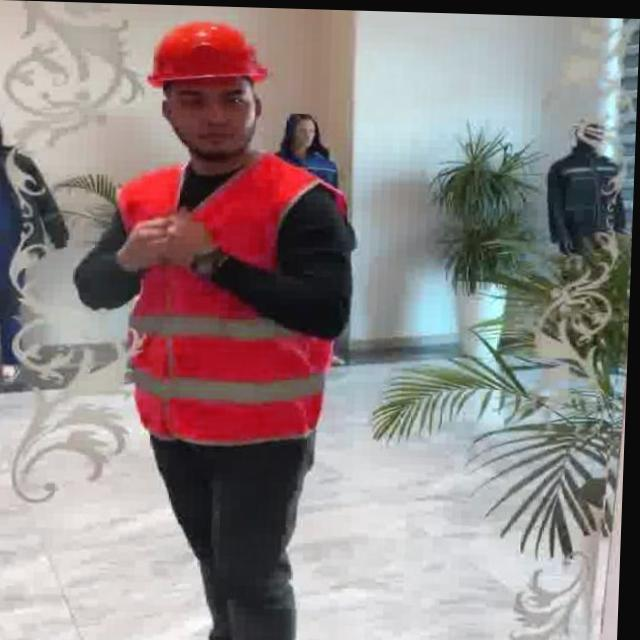Helmet: (146, 17, 272, 91)
No-Glove: (122, 203, 219, 273)
Safety-Vest: (111, 146, 355, 448)
